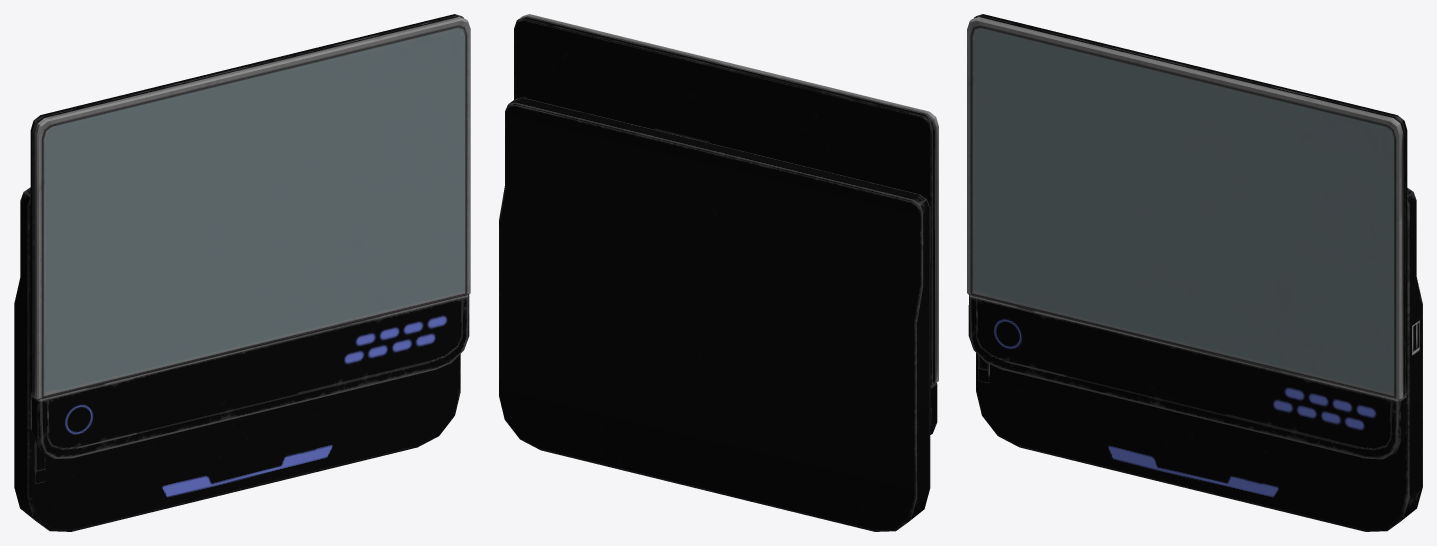
The model's file is asset_tablet_low.fbx.
3 renders of one model, left to right at view 1: azimuth 30°, elevation 25°; view 2: azimuth 150°, elevation 25°; view 3: azimuth 330°, elevation 25°, orthographic. The views are drawn at different scales.
Parts seen in each view (by area): view 1: asset_tablet, Asset_tablet_partie1; view 2: Asset_tablet_partie1, asset_tablet; view 3: asset_tablet, Asset_tablet_partie1.
Boxes of the visible parts, x1,y1,x2,y2 form: asset_tablet: (30,14,470,458); Asset_tablet_partie1: (14,187,460,531); Asset_tablet_partie1: (499,97,930,531); asset_tablet: (514,14,938,434); asset_tablet: (967,14,1407,459); Asset_tablet_partie1: (976,188,1422,531).
Bounding box in the file's own units: 45.5 × 42.79 × 4.46.
